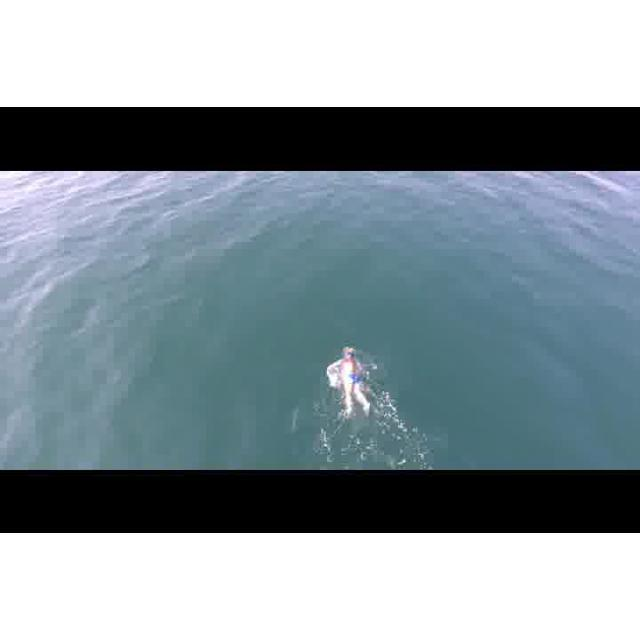human: (330, 349, 377, 424)
